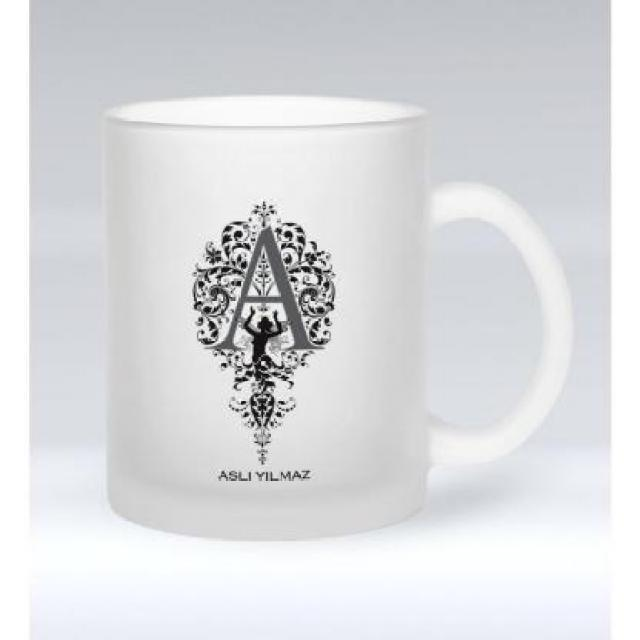taza: (99, 95, 578, 546)
